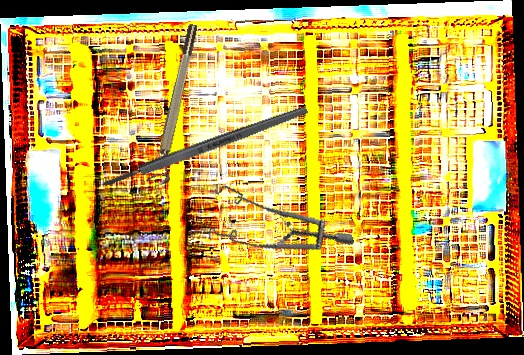Fixation Ring: (146, 22, 208, 188)
Scalpel Handle: (101, 103, 310, 191)
Speculum: (195, 151, 355, 283)
